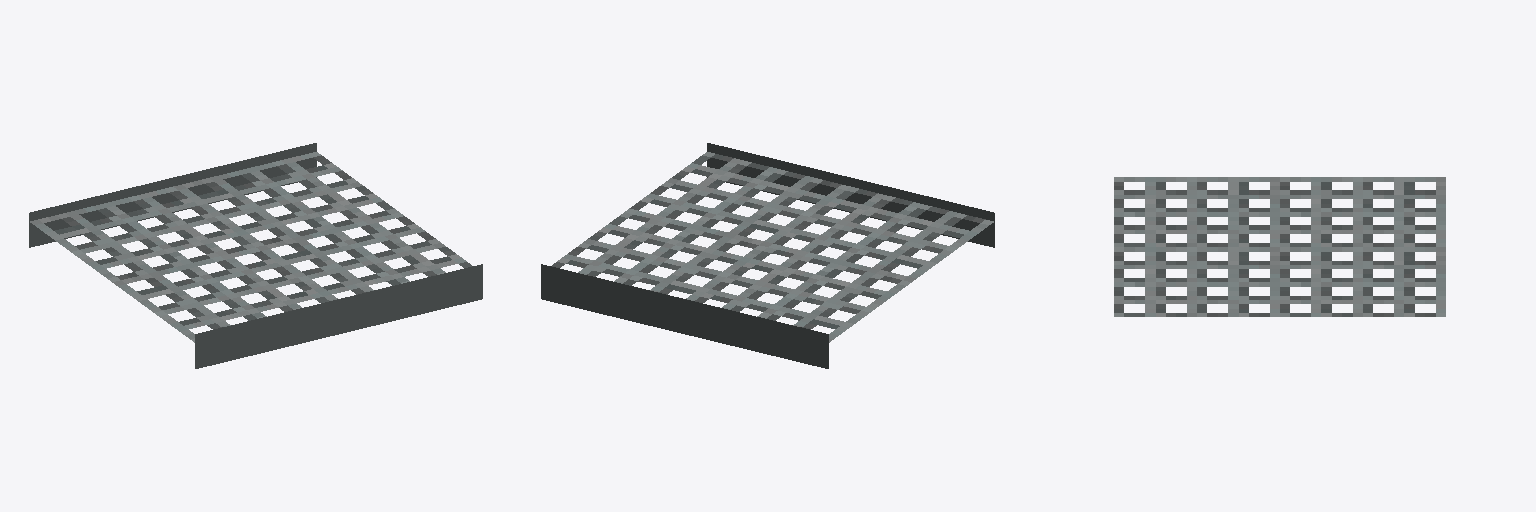
3 renders of one model, left to right at view 1: azimuth 30°, elevation 25°; view 2: azimuth 150°, elevation 25°; view 3: azimuth 270°, elevation 25°, orthographic.
Visible parts, largest first — view 1: Cube; view 2: Cube; view 3: Cube.
Boxes of the visible parts, <box> form: Cube: <box>29,143,482,368</box>; Cube: <box>541,143,994,368</box>; Cube: <box>1114,177,1445,316</box>.
Bounding box in the file's own units: 2 × 0.235 × 2.
Materials: 2 (1 with a texture image).